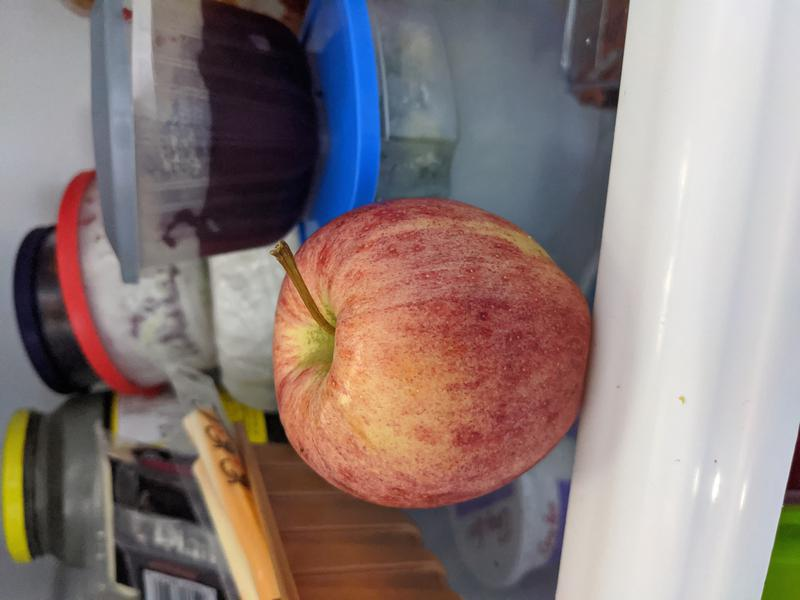red apple: (269, 196, 594, 511)
